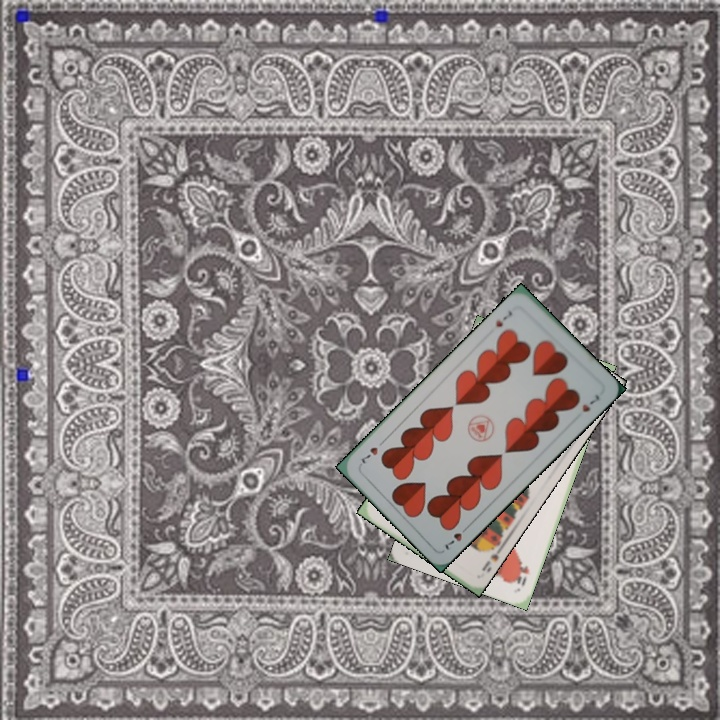H7: (441, 521, 472, 553), (492, 307, 515, 330)
HO: (511, 557, 532, 588)
S9: (478, 539, 501, 574)
